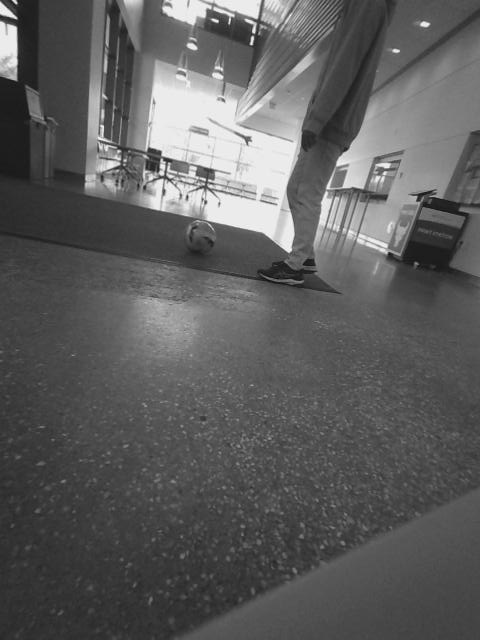ball: (180, 217, 220, 259)
